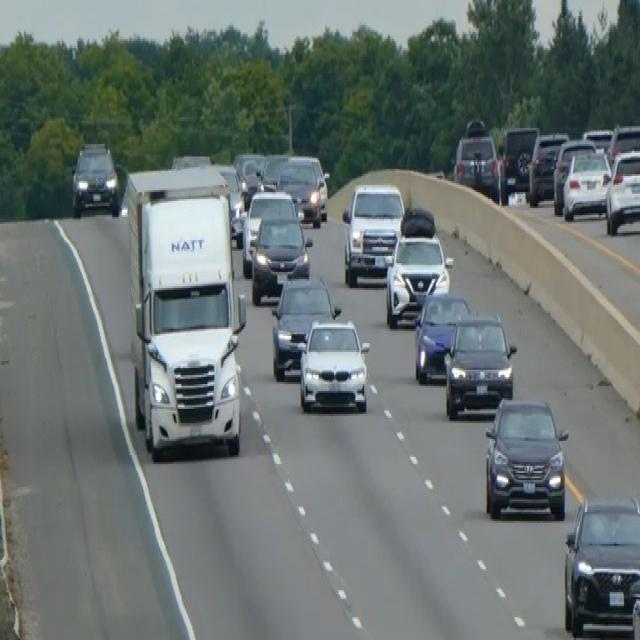car: (562, 492, 639, 638), (483, 395, 568, 521), (443, 311, 517, 418), (270, 272, 341, 380), (297, 316, 370, 412), (341, 180, 405, 286), (384, 231, 453, 327), (250, 213, 312, 304), (413, 288, 471, 384), (240, 187, 296, 276), (71, 140, 119, 217), (562, 147, 611, 220), (552, 135, 596, 213), (277, 154, 323, 226), (454, 132, 501, 199), (526, 130, 568, 204), (605, 146, 639, 234), (501, 124, 538, 194), (214, 162, 245, 242), (294, 153, 329, 219), (605, 123, 639, 169), (236, 151, 264, 201), (399, 203, 436, 238), (259, 151, 288, 192), (582, 126, 613, 155), (171, 151, 213, 169)
lorry: (122, 164, 247, 460)
